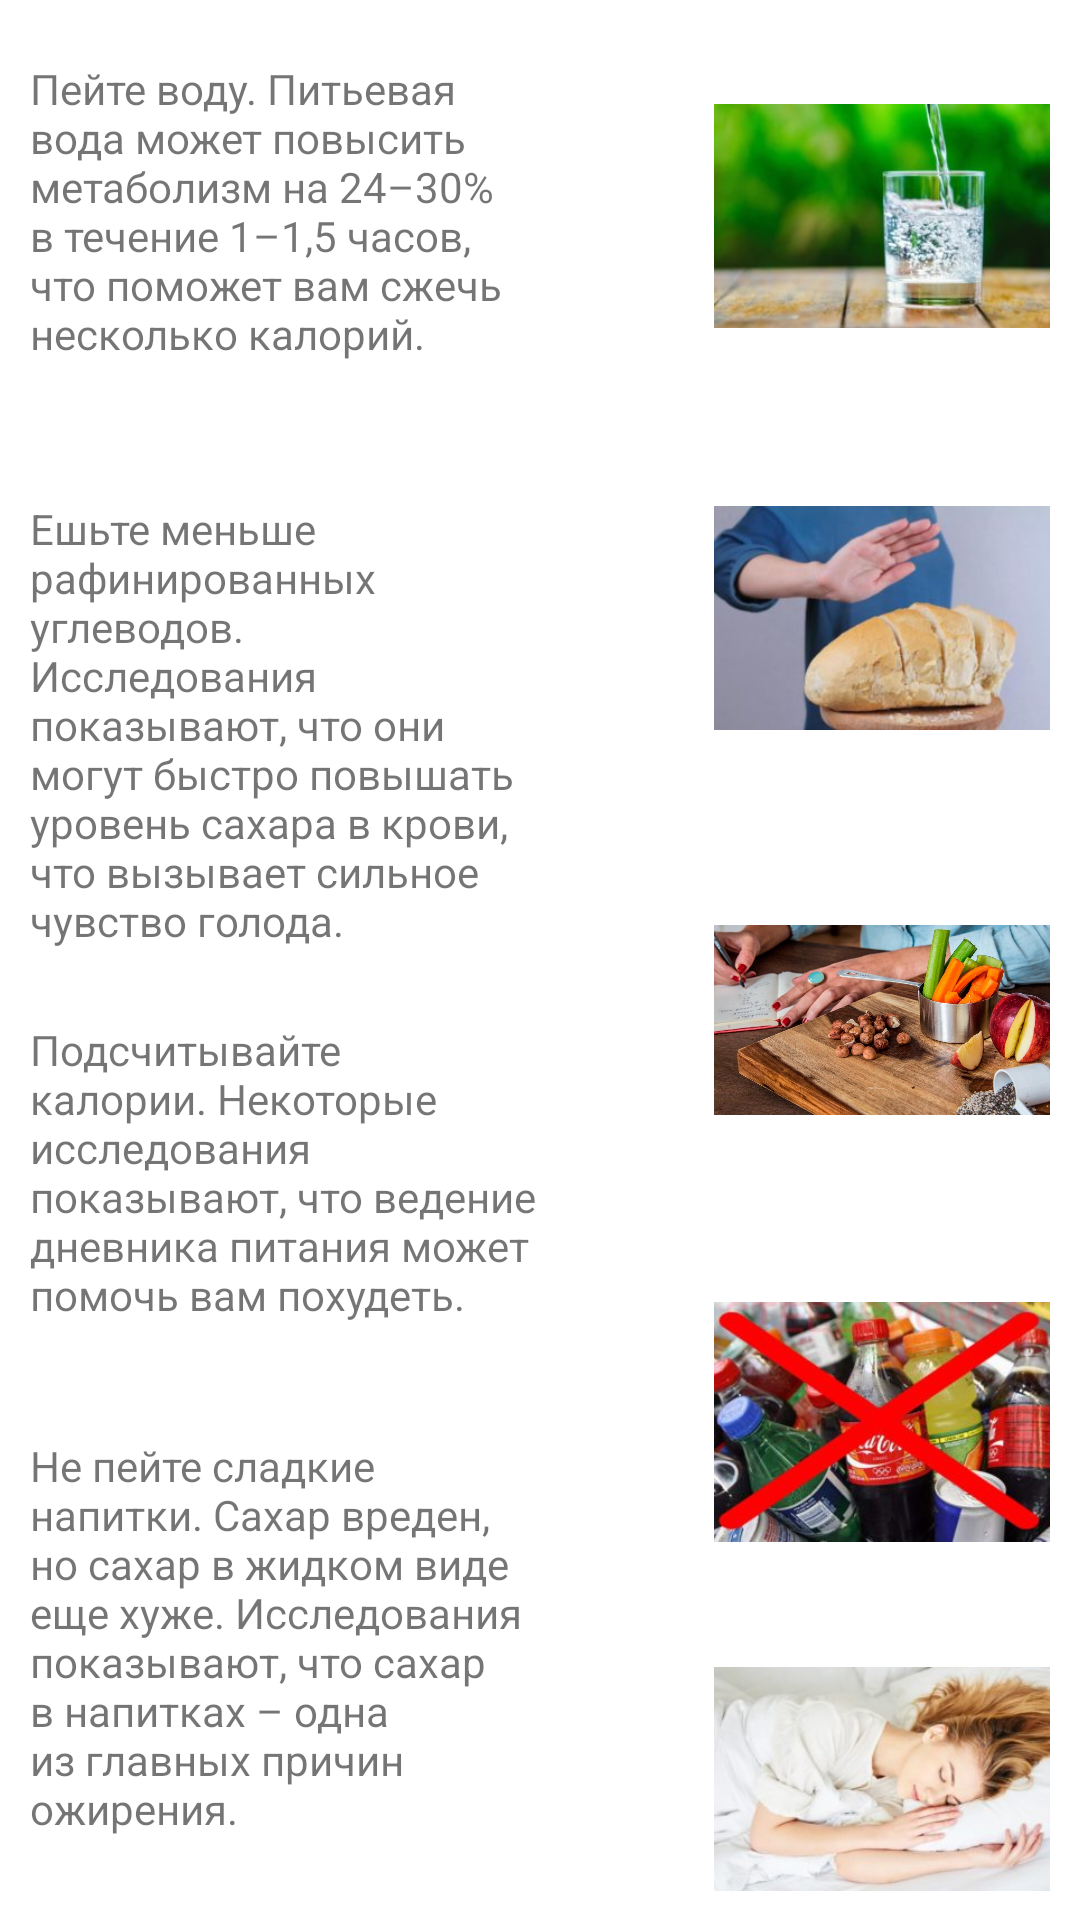

Icon click points for this 1080w x 1920h phone screenshot, format point (x, y):
hleb: point (882, 618)
porcii: point (882, 1020)
son: point (882, 1779)
water: point (882, 216)
